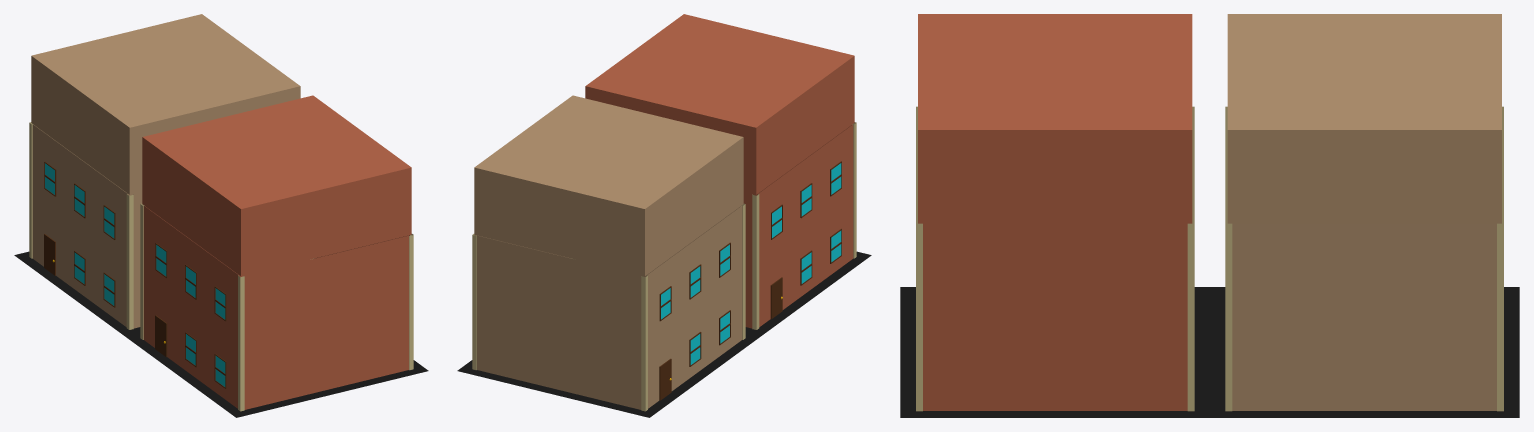
The model's file is Buildings8.fbx.
3 renders of one model, left to right at view 1: azimuth 30°, elevation 25°; view 2: azimuth 150°, elevation 25°; view 3: azimuth 270°, elevation 25°, orthographic. The views are drawn at different scales.
Parts seen in each view (by area): view 1: Buildings 2.005; view 2: Buildings 2.005; view 3: Buildings 2.005.
Boxes of the visible parts, x1=… form: Buildings 2.005: x1=14, y1=14, x2=428, y2=417; Buildings 2.005: x1=457, y1=14, x2=871, y2=417; Buildings 2.005: x1=900, y1=14, x2=1519, y2=417.
Bounding box in the file's own units: 3000 × 1500 × 1500.
